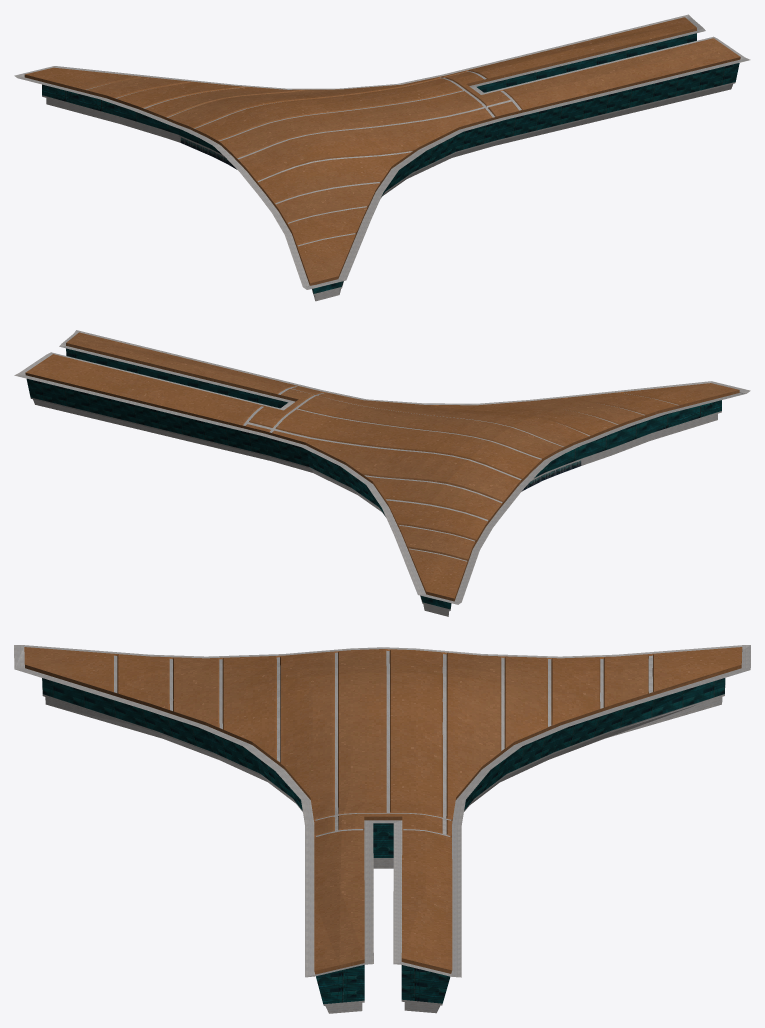
Rendered from wait3.obj.
3 views of the same model, one above another, from view 1: azimuth 30°, elevation 25°; view 2: azimuth 150°, elevation 25°; view 3: azimuth 270°, elevation 25° (orthographic). The views are drawn at different scales.
Bounding box in the file's own units: 420 × 41.07 × 381.
